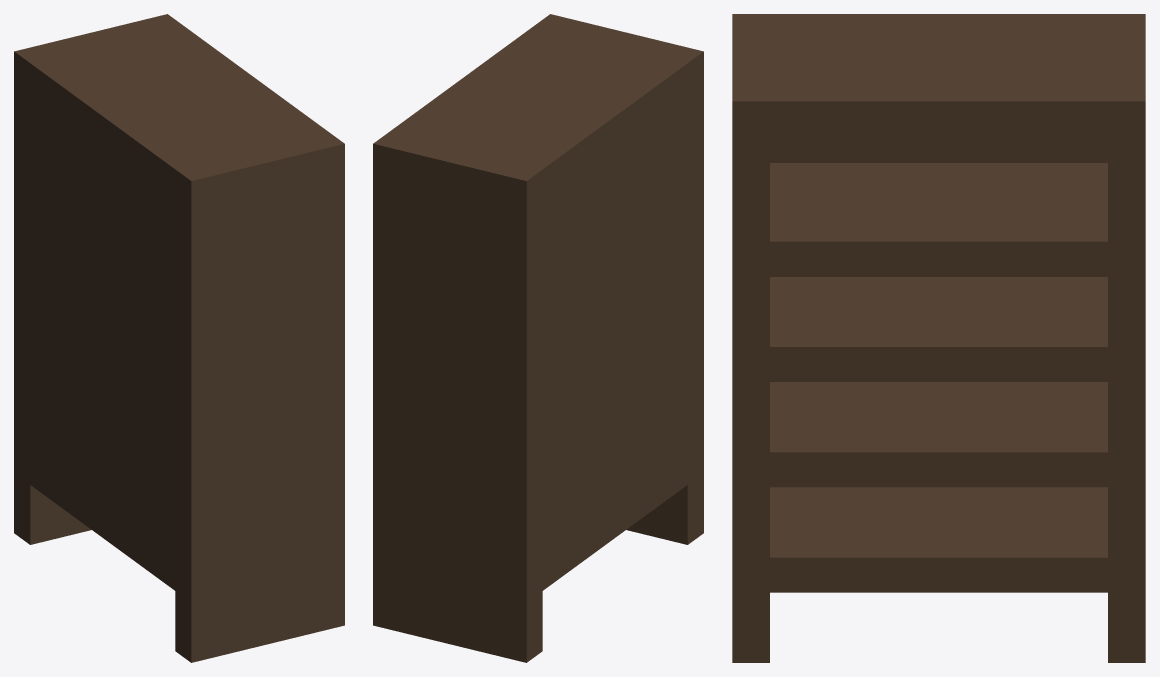
Rendered from Shelf.fbx.
3 views of the same model, side by side, from view 1: azimuth 30°, elevation 25°; view 2: azimuth 150°, elevation 25°; view 3: azimuth 270°, elevation 25° (orthographic). The views are drawn at different scales.
Visible parts, largest first — view 1: Model; view 2: Model; view 3: Model.
Boxes of the visible parts, x1,y1,x2,y2 form: Model: (14,14,344,662); Model: (373,14,703,662); Model: (732,14,1145,662).
Bounding box in the file's own units: 0.8 × 2.4 × 1.6.
